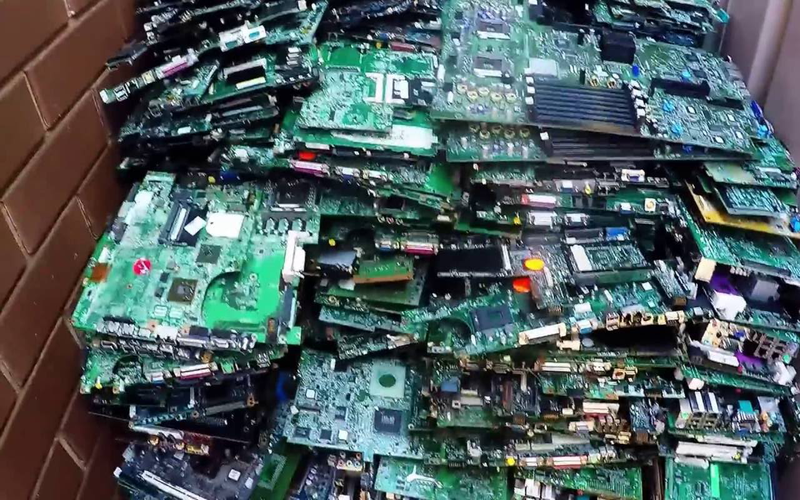Cirtuit-Board: (92, 7, 797, 500)
